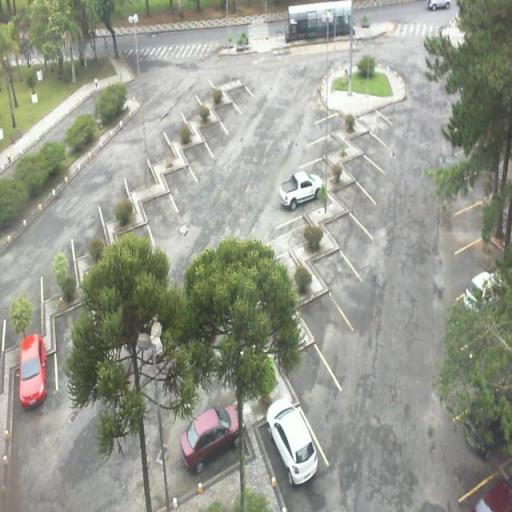Slot-empty: (272, 340, 360, 428), (287, 286, 367, 356), (308, 244, 379, 302), (338, 151, 388, 204), (326, 179, 394, 216), (319, 210, 376, 252), (158, 162, 204, 212), (137, 190, 186, 236), (351, 103, 399, 144), (180, 142, 230, 180), (196, 118, 239, 161), (224, 78, 268, 118), (347, 128, 393, 164), (212, 98, 250, 132)
Slot-occupied: (250, 394, 336, 498), (167, 404, 256, 486), (8, 335, 68, 422), (270, 166, 338, 212)
